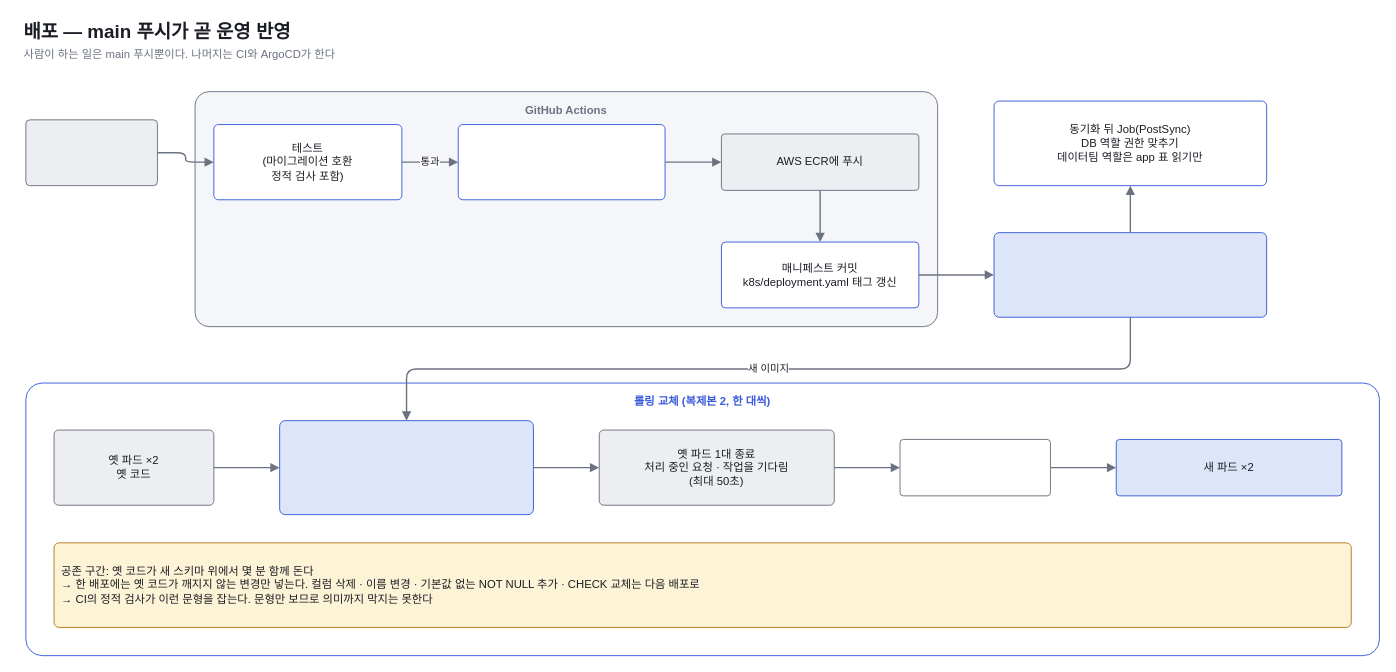
Image size: 1396x672. Some labels were removed from this diagram. The shapes that lost their labels are listed below. From the top down, each one's centre as x and y in pixels, then its label:
At [91,152]: "개발자 main에 푸시".
At [561,162]: "이미지 빌드 태그 = 커밋 해시 7자리 같은 태그가 있으면 중단".
At [1130,274]: "ArgoCD 자동 동기화 · prune · selfHeal 저장소 k8s/ 폴더를 클러스터에 맞춘다".
At [406,467]: "새 파드 1대 기동 ① DB 기다림(initContainer) ② Flyway 마이그레이션 적용 ③ readiness 통과 뒤 요청 받음".
At [974,467]: "한 번 더 반복".
